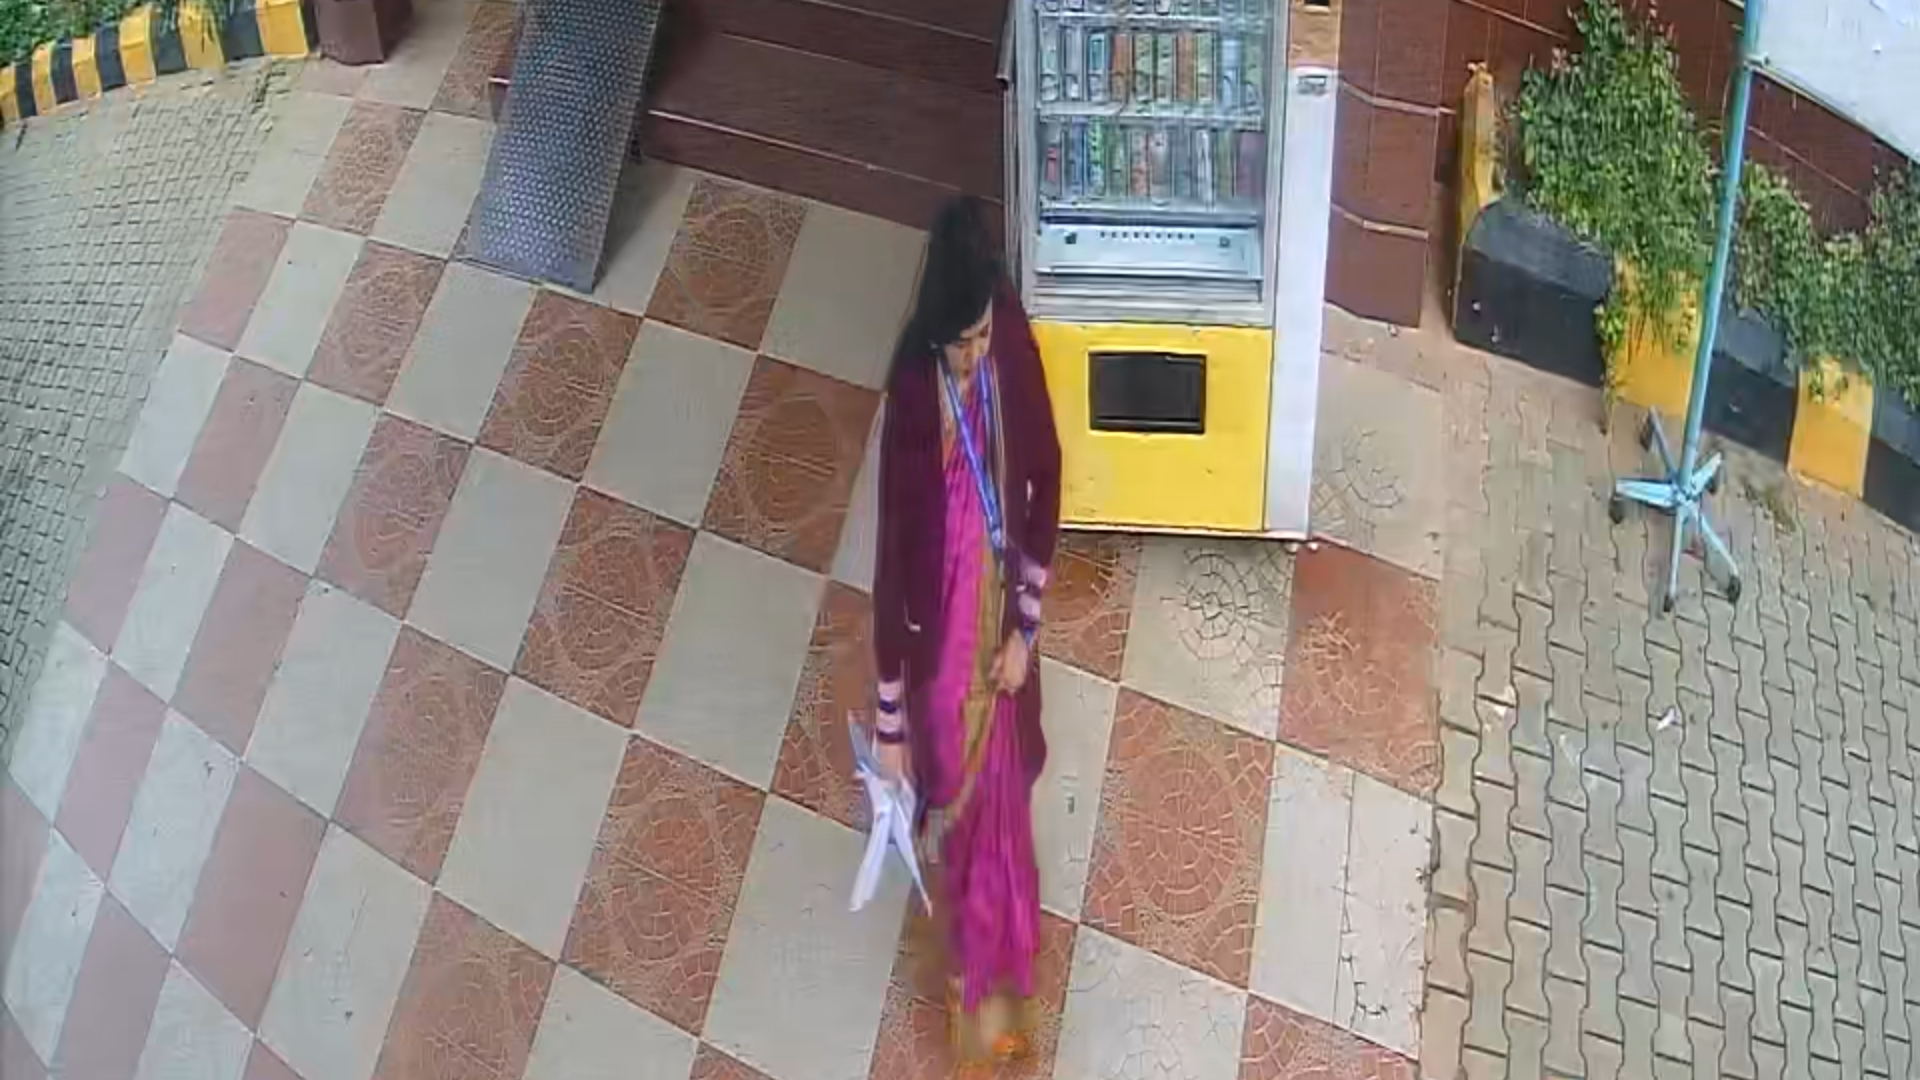not intruder: (844, 193, 1092, 1069)
